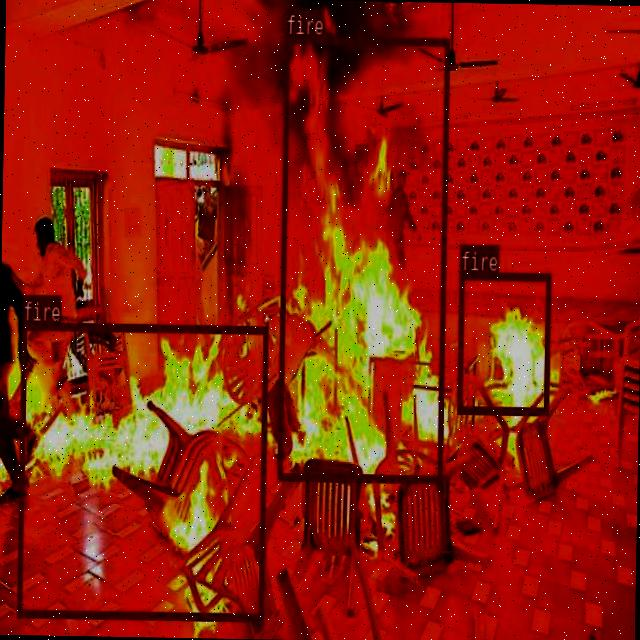fire: (276, 34, 448, 481), (16, 320, 267, 620), (456, 271, 549, 414)
